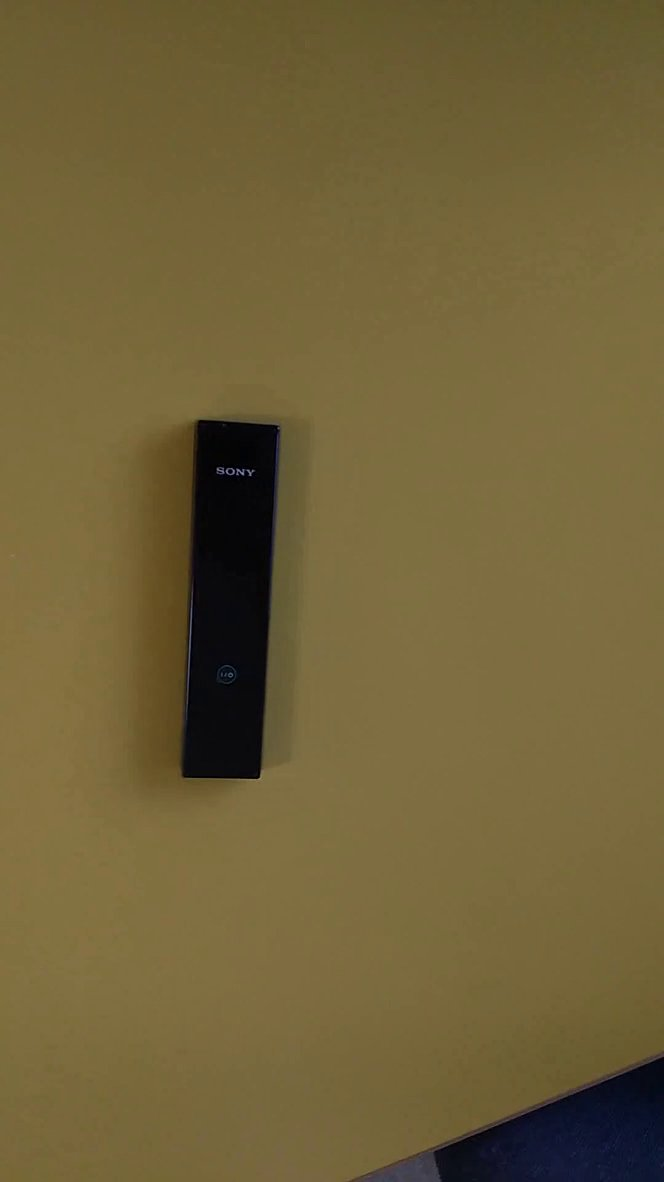remote: (162, 405, 304, 795)
